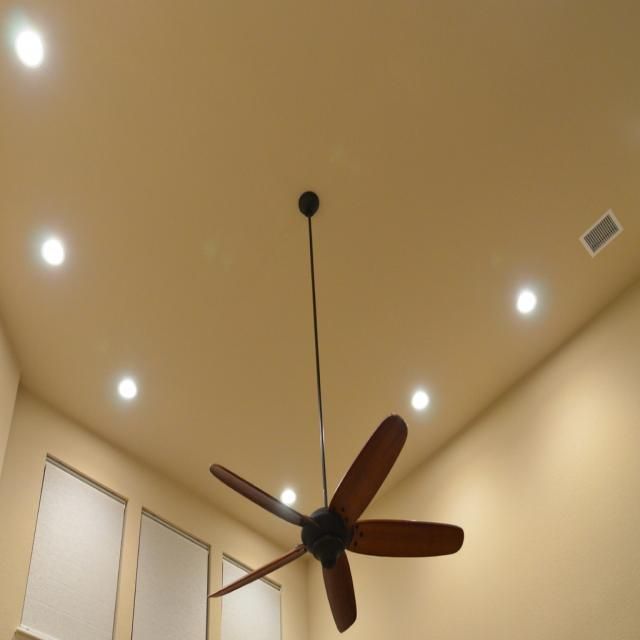Bulb: (207, 190, 466, 636)
